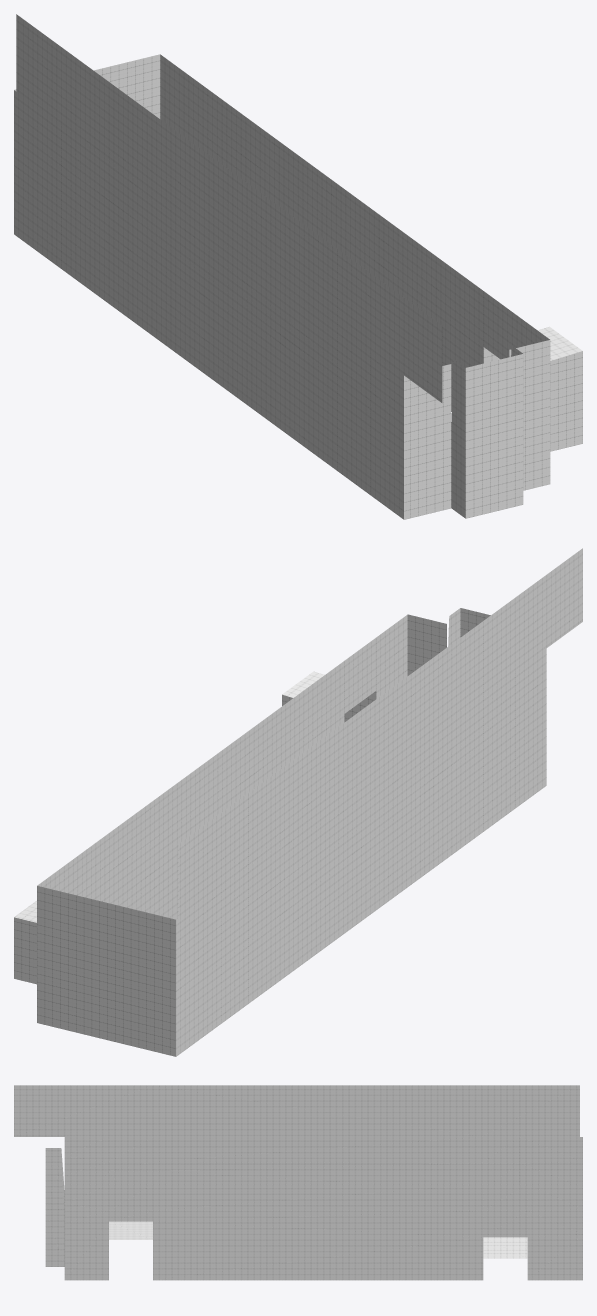
The model's file is Corridor.fbx.
3 views of the same model, one above another, from view 1: azimuth 30°, elevation 25°; view 2: azimuth 150°, elevation 25°; view 3: azimuth 270°, elevation 25° (orthographic). The views are drawn at different scales.
Parts seen in each view (by area): view 1: Corridor; view 2: Corridor; view 3: Corridor.
Part boxes in pixels (x1,y1,x2,y2): Corridor: [14, 14, 582, 519]; Corridor: [14, 548, 582, 1056]; Corridor: [14, 1085, 582, 1280].
Size of the model in its own units: 2575 by 2575 by 9000.
Materials: 1 (1 with a texture image).
